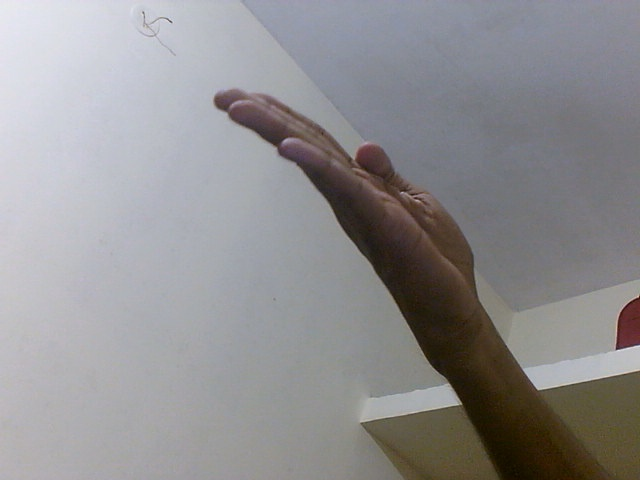hand: (210, 86, 490, 345)
